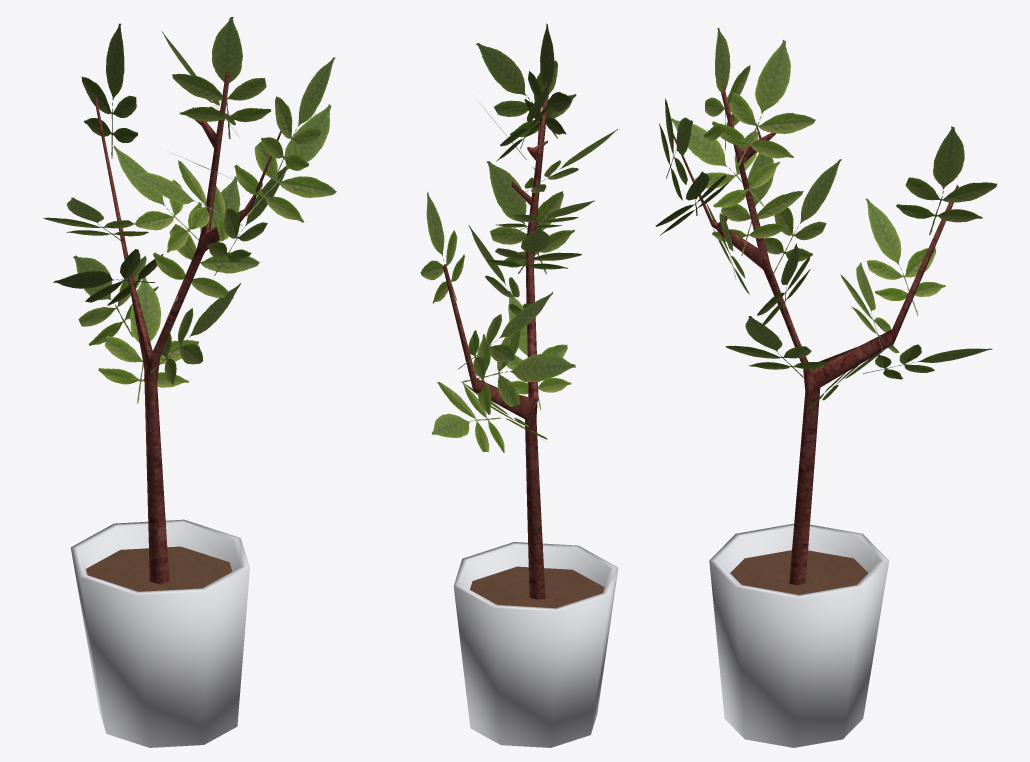
Rendered from plant.fbx.
3 renders of one model, left to right at view 1: azimuth 30°, elevation 25°; view 2: azimuth 150°, elevation 25°; view 3: azimuth 270°, elevation 25°, orthographic. The views are drawn at different scales.
Visible parts, largest first — view 1: leaves.008; view 2: leaves.008; view 3: leaves.008.
Part boxes in pixels (x1,y1,x2,y2): leaves.008: (43, 17, 336, 747); leaves.008: (420, 23, 618, 747); leaves.008: (655, 28, 997, 747).
Size of the model in its own units: 351 by 1091 by 513.
Materials: 1 (1 with a texture image).
